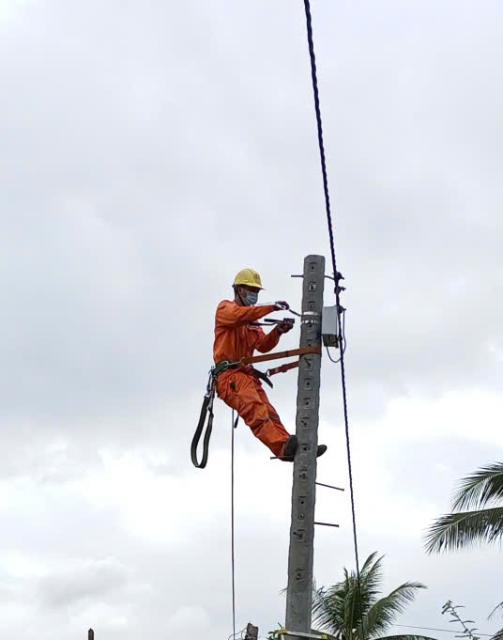harness: (210, 350, 294, 378)
helmet: (227, 260, 266, 294)
shoes: (275, 431, 303, 463)
